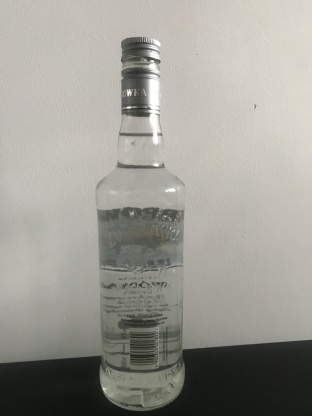nakretka: (119, 34, 162, 115)
